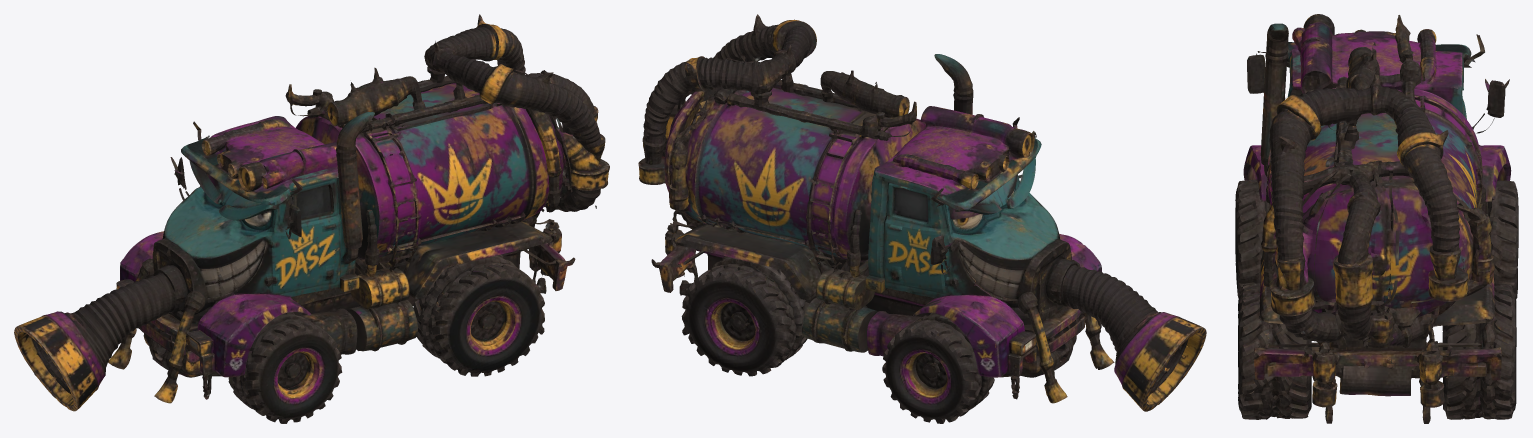
File: dasz-truck.glb
3 views of the same model, side by side, from view 1: azimuth 30°, elevation 25°; view 2: azimuth 150°, elevation 25°; view 3: azimuth 270°, elevation 25° (orthographic). The views are drawn at different scales.
Visible parts, largest first — view 1: temp; view 2: temp; view 3: temp.
Part boxes in pixels (box(x1,y1,x2,y2)): temp: box(14, 14, 609, 423); temp: box(638, 14, 1206, 423); temp: box(1235, 14, 1518, 423).
Size of the model in its own units: 33.31 by 16.72 by 12.59.
1 material, 1 textured.
